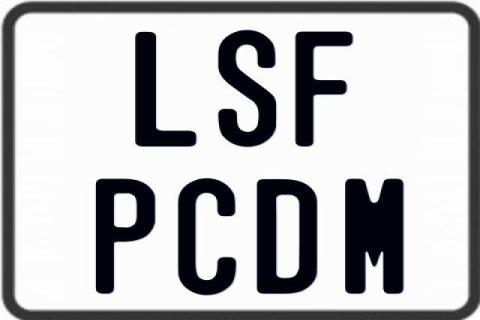C: (178, 177, 236, 293)
D: (256, 179, 320, 297)
F: (292, 29, 350, 147)
L: (134, 32, 195, 150)
M: (342, 178, 405, 296)
P: (93, 177, 152, 295)
S: (215, 29, 277, 147)
